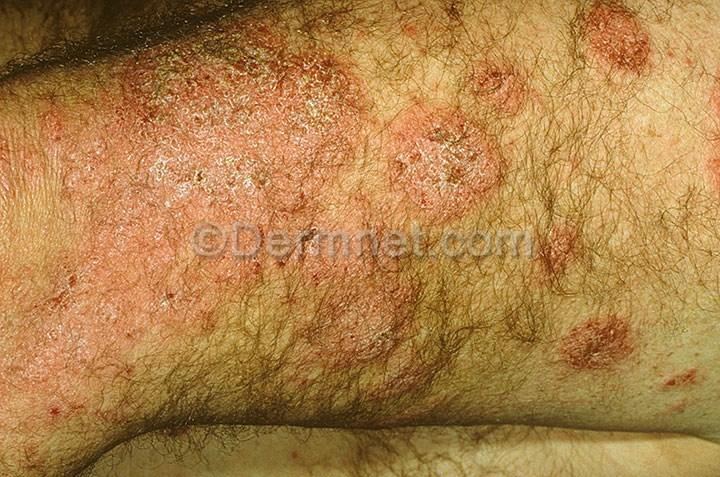Eczema: (387, 93, 522, 234), (148, 227, 296, 348), (314, 289, 472, 400), (270, 61, 388, 203), (3, 179, 135, 284), (0, 67, 114, 186), (296, 176, 408, 296), (159, 122, 273, 236), (95, 42, 220, 144), (49, 282, 157, 396), (577, 0, 673, 102), (210, 21, 311, 114), (552, 292, 638, 381), (472, 40, 555, 130), (516, 199, 594, 290), (14, 381, 100, 456), (113, 146, 175, 239), (378, 0, 457, 68), (9, 276, 59, 382), (646, 336, 709, 416), (692, 57, 720, 199), (377, 397, 433, 428)
